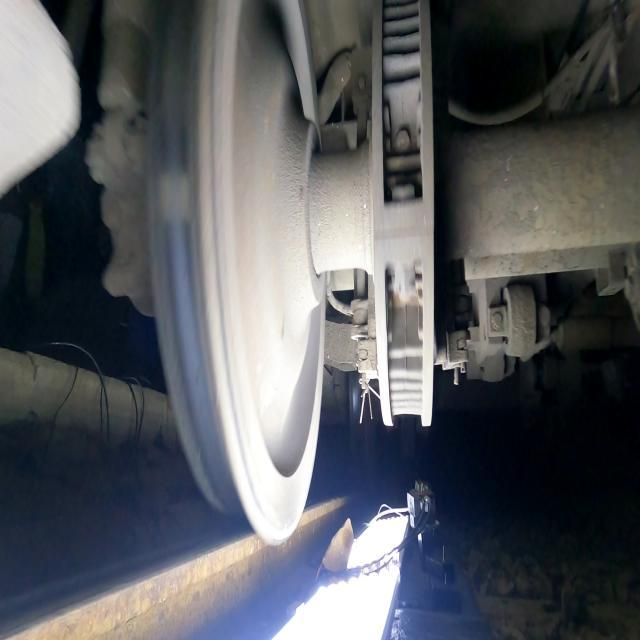Discoloration: (161, 219, 200, 337), (156, 123, 190, 168)
Shelling: (155, 5, 194, 120), (156, 170, 191, 217)
Wheel: (150, 2, 325, 545)
